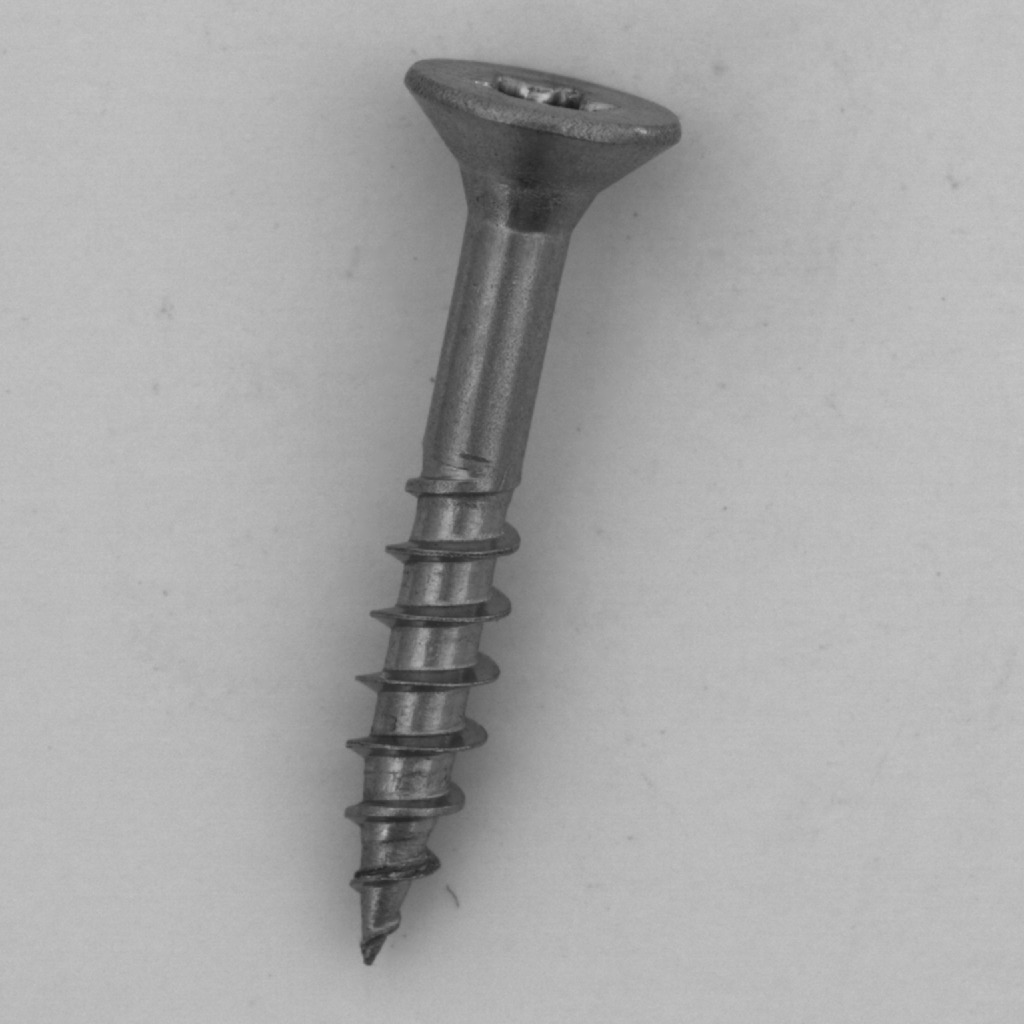good: (330, 28, 696, 966)
